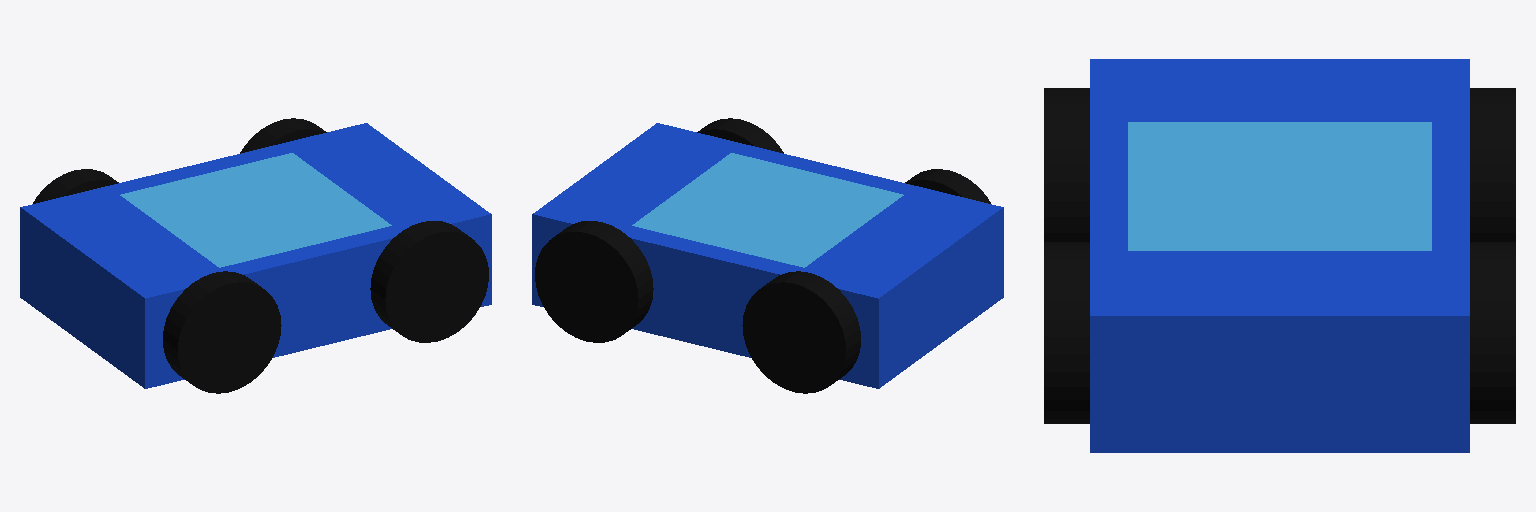
The robot description file, URDF, robot "moving_target":
<?xml version="1.0"?>
<robot name="moving_target" xmlns:xacro="http://www.ros.org/wiki/xacro">
  <!--
    V1 moving_target URDF.
    - Base motion is driven by custom planar dynamics in systems/moving_target_plant.*
    - This URDF is primarily for visualization and future shared-world compatibility.
    - Wheel joints spin about the +Y axis on the left and right sides consistently.
  -->

  <material name="chassis_blue">
    <color rgba="0.15 0.35 0.85 1.0"/>
  </material>
  <material name="wheel_black">
    <color rgba="0.1 0.1 0.1 1.0"/>
  </material>

  <link name="base_link">
    <visual>
      <origin xyz="0 0 0.12" rpy="0 0 0"/>
      <geometry>
        <box size="0.8 0.5 0.2"/>
      </geometry>
      <material name="chassis_blue"/>
    </visual>
    <collision>
      <origin xyz="0 0 0.12" rpy="0 0 0"/>
      <geometry>
        <box size="0.8 0.5 0.2"/>
      </geometry>
    </collision>
    <inertial>
      <origin xyz="0 0 0.12" rpy="0 0 0"/>
      <mass value="18.0"/>
      <inertia ixx="1.0" ixy="0.0" ixz="0.0" iyy="1.8" iyz="0.0" izz="2.2"/>
    </inertial>
  </link>

  <link name="raruco_marker_link">
    <visual>
      <origin xyz="0 0 0" rpy="0 0 0"/>
      <geometry>
        <mesh filename="package://uav_models/moving_target/marker_plate.obj" scale="0.4 0.4 1.0"/>
      </geometry>
    </visual>
    <collision>
      <origin xyz="0 0 0" rpy="0 0 0"/>
      <geometry>
        <box size="0.4 0.4 0.002"/>
      </geometry>
    </collision>
    <inertial>
      <mass value="0.05"/>
      <inertia ixx="0.001" ixy="0.0" ixz="0.0" iyy="0.001" iyz="0.0" izz="0.001"/>
    </inertial>
  </link>

  <joint name="raruco_marker_joint" type="fixed">
    <parent link="base_link"/>
    <child link="raruco_marker_link"/>
    <origin xyz="0 0 0.221" rpy="0 0 0"/>
  </joint>

  <link name="front_left_wheel_link">
    <visual>
      <origin xyz="0 0 0" rpy="1.57079632679 0 0"/>
      <geometry>
        <cylinder radius="0.12" length="0.06"/>
      </geometry>
      <material name="wheel_black"/>
    </visual>
    <collision>
      <origin xyz="0 0 0" rpy="1.57079632679 0 0"/>
      <geometry>
        <cylinder radius="0.12" length="0.06"/>
      </geometry>
    </collision>
    <inertial>
      <mass value="1.0"/>
      <inertia ixx="0.01" ixy="0.0" ixz="0.0" iyy="0.01" iyz="0.0" izz="0.01"/>
    </inertial>
  </link>

  <link name="front_right_wheel_link">
    <visual>
      <origin xyz="0 0 0" rpy="1.57079632679 0 0"/>
      <geometry>
        <cylinder radius="0.12" length="0.06"/>
      </geometry>
      <material name="wheel_black"/>
    </visual>
    <collision>
      <origin xyz="0 0 0" rpy="1.57079632679 0 0"/>
      <geometry>
        <cylinder radius="0.12" length="0.06"/>
      </geometry>
    </collision>
    <inertial>
      <mass value="1.0"/>
      <inertia ixx="0.01" ixy="0.0" ixz="0.0" iyy="0.01" iyz="0.0" izz="0.01"/>
    </inertial>
  </link>

  <link name="rear_left_wheel_link">
    <visual>
      <origin xyz="0 0 0" rpy="1.57079632679 0 0"/>
      <geometry>
        <cylinder radius="0.12" length="0.06"/>
      </geometry>
      <material name="wheel_black"/>
    </visual>
    <collision>
      <origin xyz="0 0 0" rpy="1.57079632679 0 0"/>
      <geometry>
        <cylinder radius="0.12" length="0.06"/>
      </geometry>
    </collision>
    <inertial>
      <mass value="1.0"/>
      <inertia ixx="0.01" ixy="0.0" ixz="0.0" iyy="0.01" iyz="0.0" izz="0.01"/>
    </inertial>
  </link>

  <link name="rear_right_wheel_link">
    <visual>
      <origin xyz="0 0 0" rpy="1.57079632679 0 0"/>
      <geometry>
        <cylinder radius="0.12" length="0.06"/>
      </geometry>
      <material name="wheel_black"/>
    </visual>
    <collision>
      <origin xyz="0 0 0" rpy="1.57079632679 0 0"/>
      <geometry>
        <cylinder radius="0.12" length="0.06"/>
      </geometry>
    </collision>
    <inertial>
      <mass value="1.0"/>
      <inertia ixx="0.01" ixy="0.0" ixz="0.0" iyy="0.01" iyz="0.0" izz="0.01"/>
    </inertial>
  </link>

  <joint name="front_left_wheel_joint" type="continuous">
    <parent link="base_link"/>
    <child link="front_left_wheel_link"/>
    <origin xyz="0.24 0.28 0.12" rpy="0 0 0"/>
    <axis xyz="0 1 0"/>
  </joint>

  <joint name="front_right_wheel_joint" type="continuous">
    <parent link="base_link"/>
    <child link="front_right_wheel_link"/>
    <origin xyz="0.24 -0.28 0.12" rpy="0 0 0"/>
    <axis xyz="0 1 0"/>
  </joint>

  <joint name="rear_left_wheel_joint" type="continuous">
    <parent link="base_link"/>
    <child link="rear_left_wheel_link"/>
    <origin xyz="-0.24 0.28 0.12" rpy="0 0 0"/>
    <axis xyz="0 1 0"/>
  </joint>

  <joint name="rear_right_wheel_joint" type="continuous">
    <parent link="base_link"/>
    <child link="rear_right_wheel_link"/>
    <origin xyz="-0.24 -0.28 0.12" rpy="0 0 0"/>
    <axis xyz="0 1 0"/>
  </joint>
</robot>

--- What the picture shows (computed from the rendered views, not written in the file) ---
Views: 3 orthographic renders of the robot side by side, from view 1: azimuth 30°, elevation 25°; view 2: azimuth 150°, elevation 25°; view 3: azimuth 270°, elevation 25°.
Robot: moving_target — 6 links, 5 joints (4 continuous, 1 fixed); root link base_link; default pose: all joints at 0.
Links seen in each view (by area): view 1: base_link, raruco_marker_link, front_right_wheel_link, rear_right_wheel_link, rear_left_wheel_link, front_left_wheel_link; view 2: base_link, raruco_marker_link, front_left_wheel_link, rear_left_wheel_link, rear_right_wheel_link, front_right_wheel_link; view 3: base_link, raruco_marker_link, front_left_wheel_link, front_right_wheel_link, rear_left_wheel_link, rear_right_wheel_link.
Link boxes in pixels (<box>): base_link: <box>20,123,491,388</box>; raruco_marker_link: <box>120,153,391,267</box>; front_right_wheel_link: <box>370,221,488,342</box>; rear_right_wheel_link: <box>163,271,281,393</box>; rear_left_wheel_link: <box>33,169,118,203</box>; front_left_wheel_link: <box>240,118,326,153</box>; base_link: <box>532,123,1003,388</box>; raruco_marker_link: <box>632,153,903,267</box>; front_left_wheel_link: <box>535,221,653,342</box>; rear_left_wheel_link: <box>742,271,860,393</box>; rear_right_wheel_link: <box>905,169,990,203</box>; front_right_wheel_link: <box>697,118,783,153</box>; base_link: <box>1090,59,1469,452</box>; raruco_marker_link: <box>1128,122,1431,250</box>; front_left_wheel_link: <box>1470,242,1515,423</box>; front_right_wheel_link: <box>1044,242,1089,423</box>; rear_left_wheel_link: <box>1470,88,1515,241</box>; rear_right_wheel_link: <box>1044,88,1089,241</box>.
Bounding box of the posed robot: 0.8 × 0.62 × 0.24 m (x, y, z).
1 mesh visuals loaded from 1 distinct referenced files (1 OBJ).
